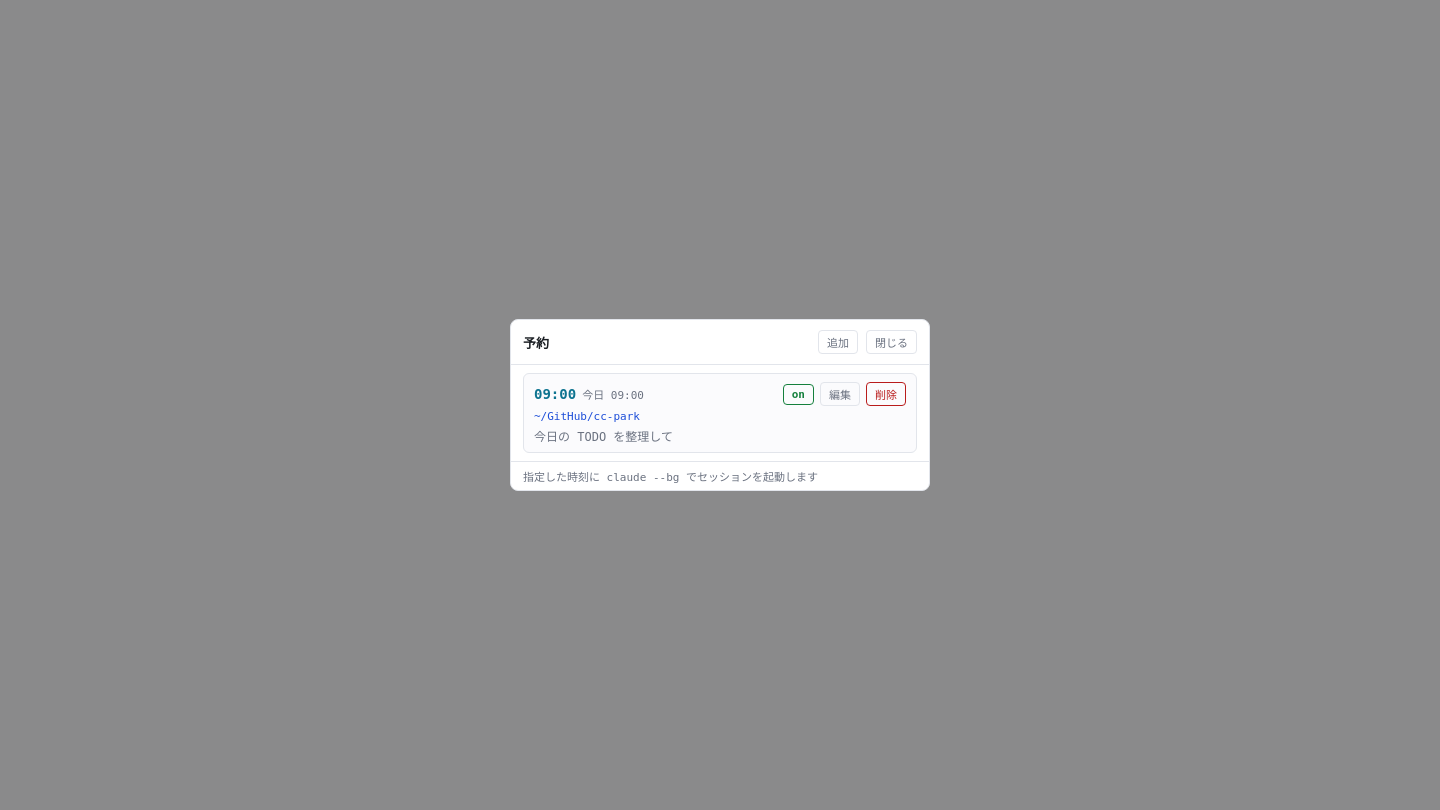
Test case: SchedulePanel › 編集からダイアログを開く
The image size is (1440, 810).
Click the button "編集". click: [840, 394]
box: [820, 382, 860, 406]
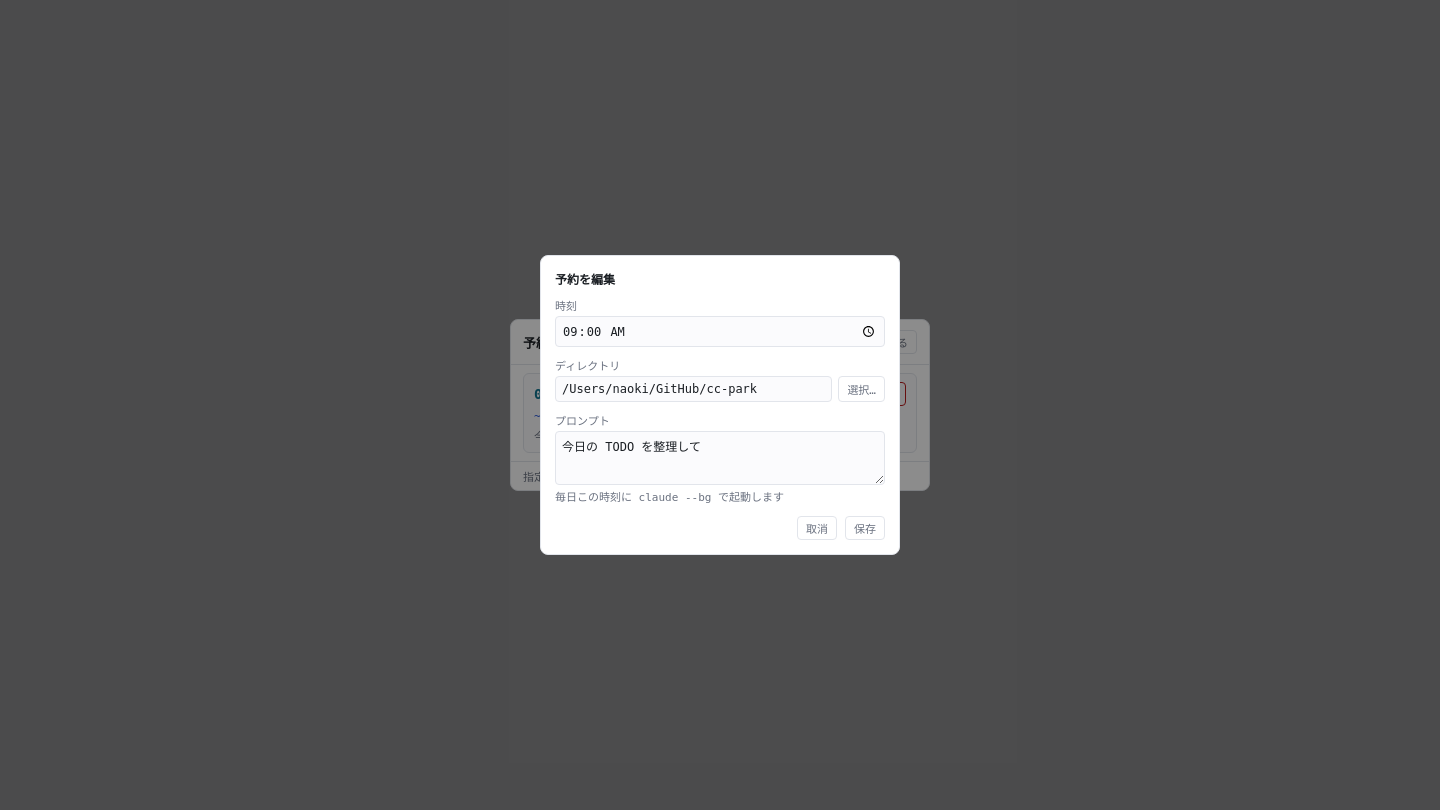
expect the text "予約を編集" is shown: met, box [555, 273, 615, 287]
